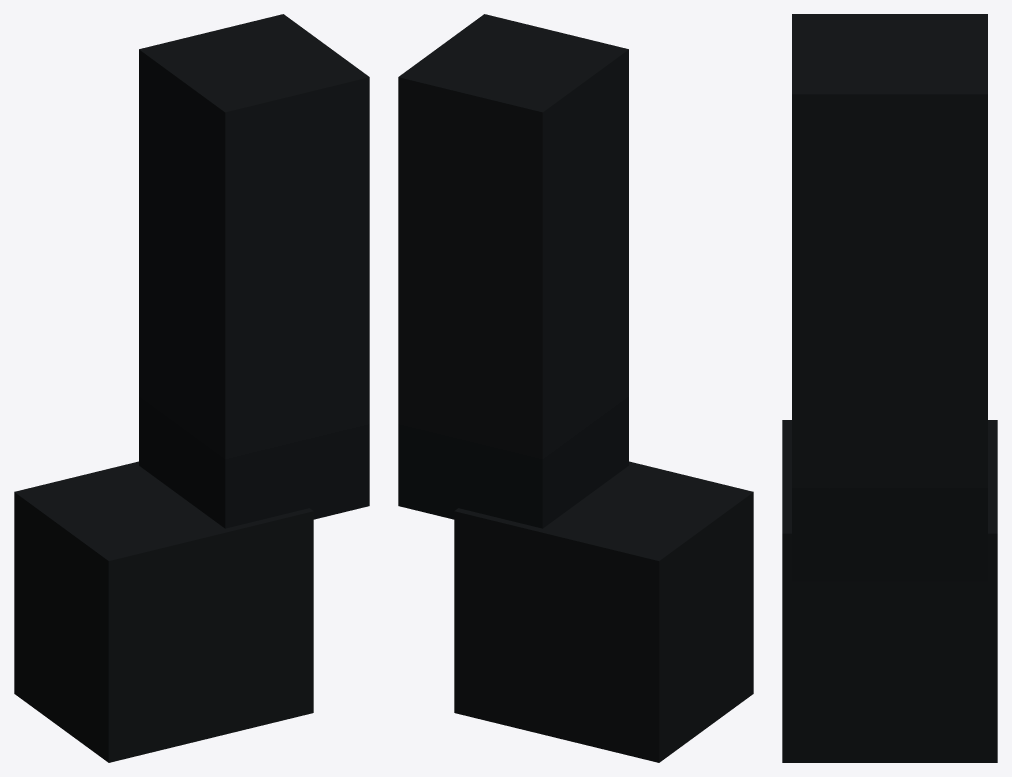
File: USP_Suppressed_Trigger.glb
3 renders of one model, left to right at view 1: azimuth 30°, elevation 25°; view 2: azimuth 150°, elevation 25°; view 3: azimuth 270°, elevation 25°, orthographic. The views are drawn at different scales.
Parts seen in each view (by area): view 1: Trigger upper, Trigger curved tip; view 2: Trigger upper, Trigger curved tip; view 3: Trigger upper, Trigger curved tip.
Part boxes in pixels (x1,y1,x2,y2): Trigger upper: (139, 14, 369, 528); Trigger curved tip: (14, 461, 313, 762); Trigger upper: (398, 14, 628, 528); Trigger curved tip: (454, 461, 753, 762); Trigger upper: (792, 14, 987, 581); Trigger curved tip: (782, 420, 997, 762).
Size of the model in its own units: 0.011 by 0.0245 by 0.0068.
1 material, 1 textured.
